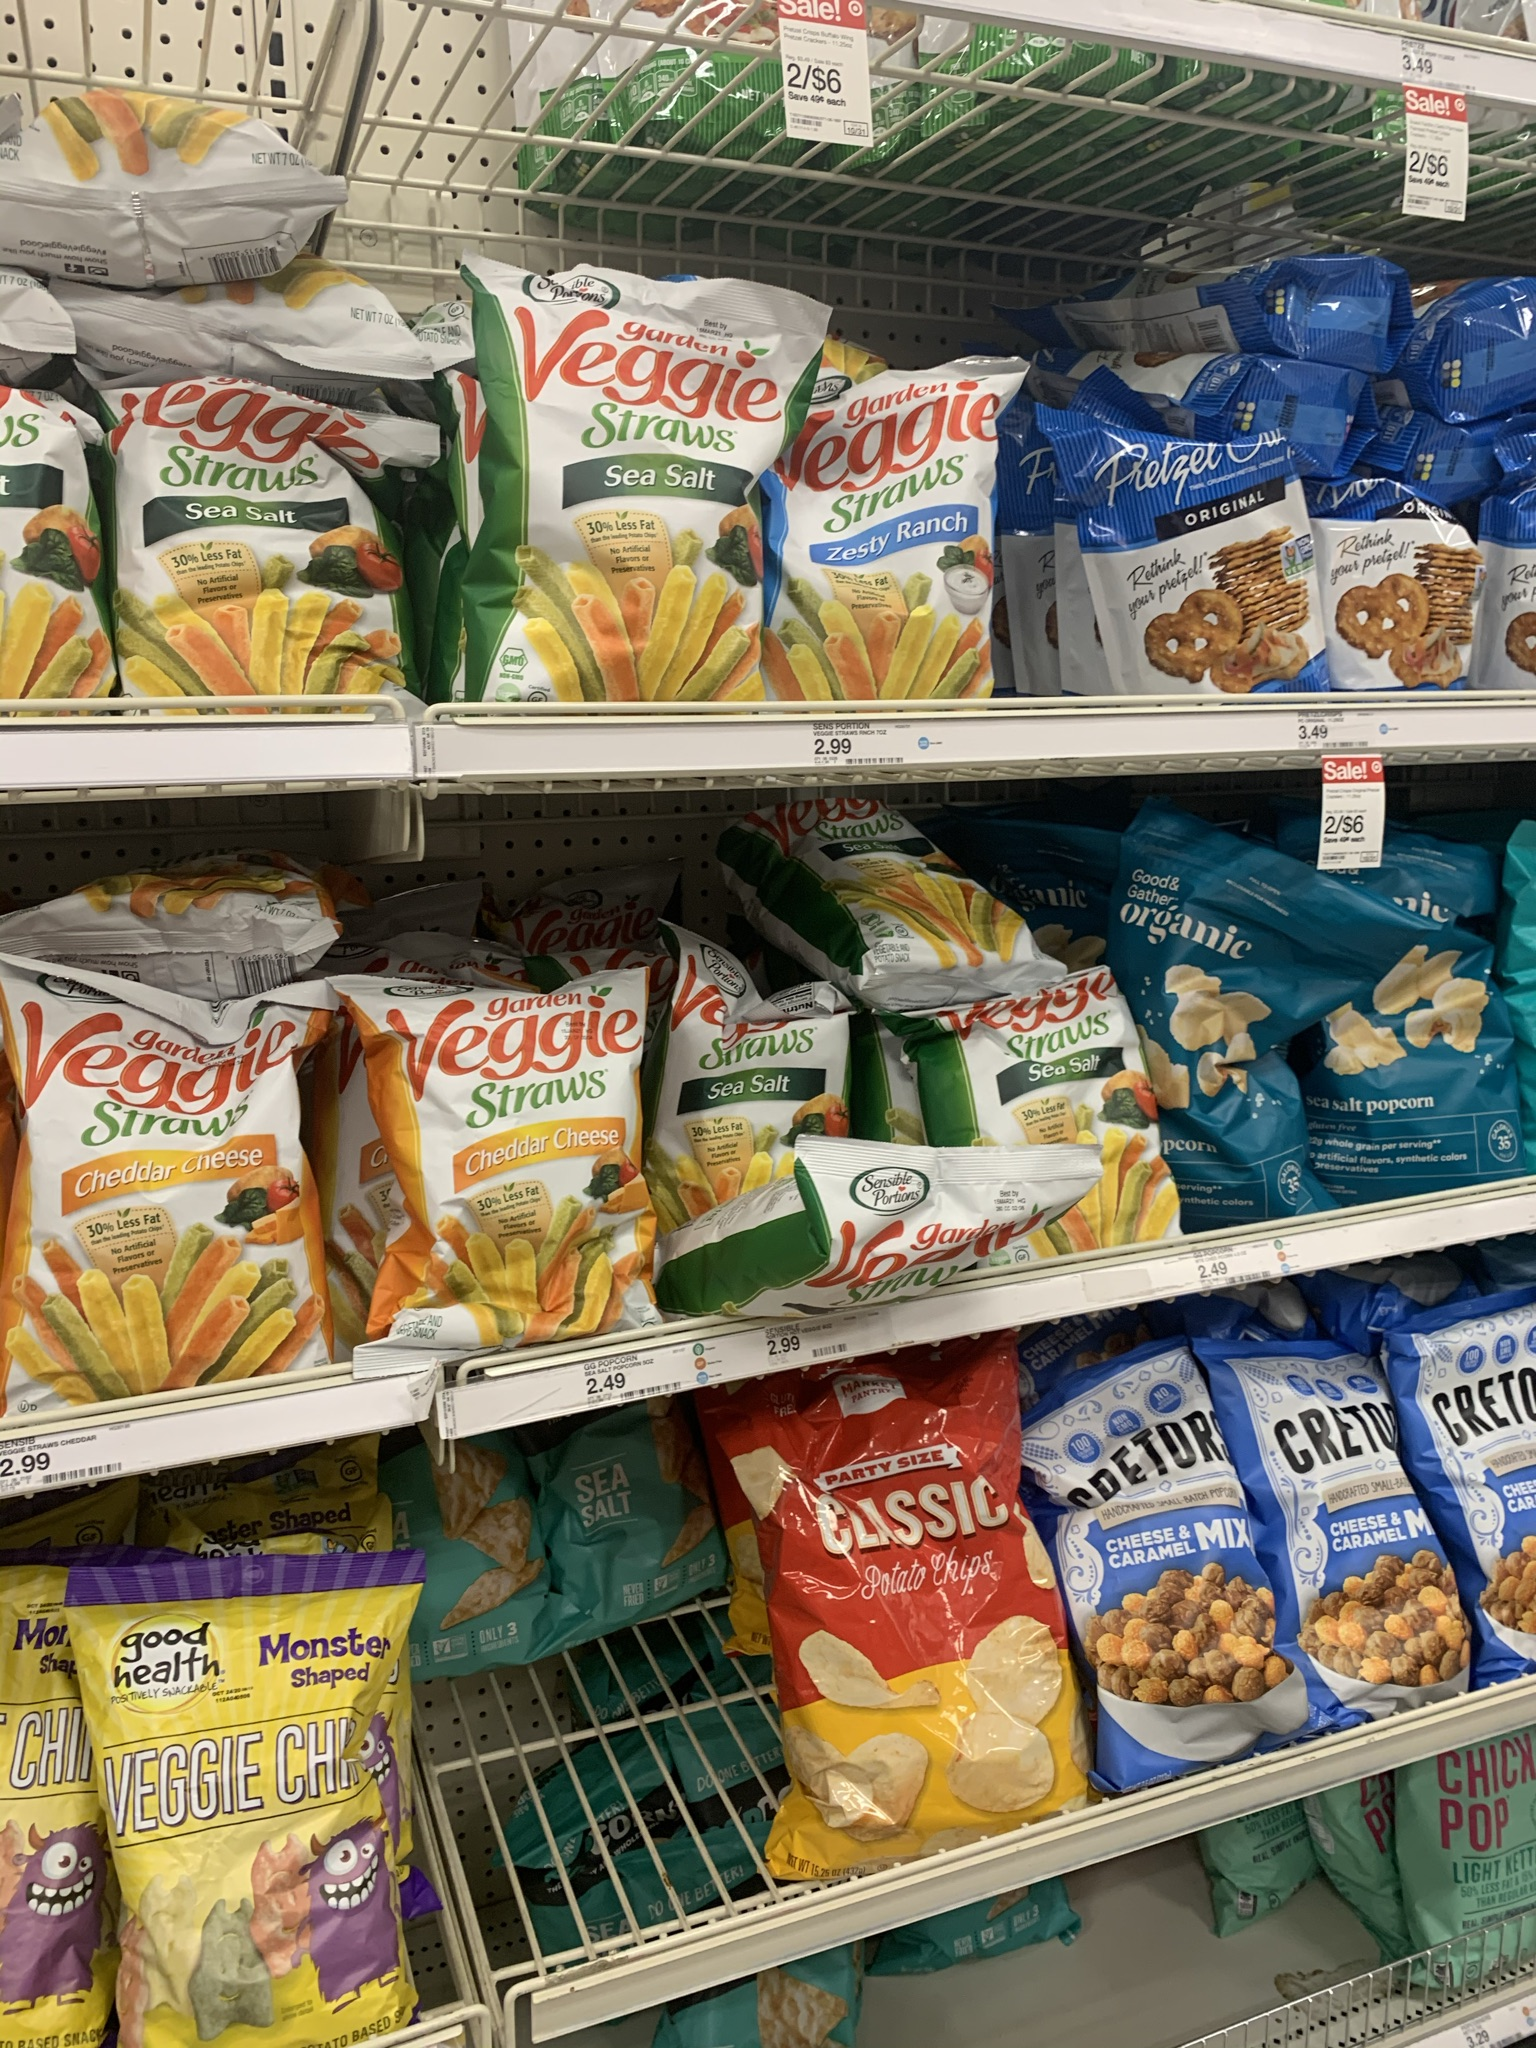chips: (757, 1442, 1097, 1842)
cretors: (1226, 1359, 1494, 1724), (1044, 1416, 1304, 1738)
organic chips: (1133, 835, 1347, 1243)
pretzels chips: (1084, 440, 1321, 664), (1326, 469, 1509, 689)
veggie chips: (87, 1605, 432, 2048), (484, 248, 758, 693), (23, 989, 294, 1366), (365, 1001, 629, 1338), (147, 398, 360, 692), (808, 393, 999, 705), (963, 1009, 1194, 1251), (699, 961, 878, 1219), (778, 805, 1057, 959), (747, 1174, 1099, 1293)
